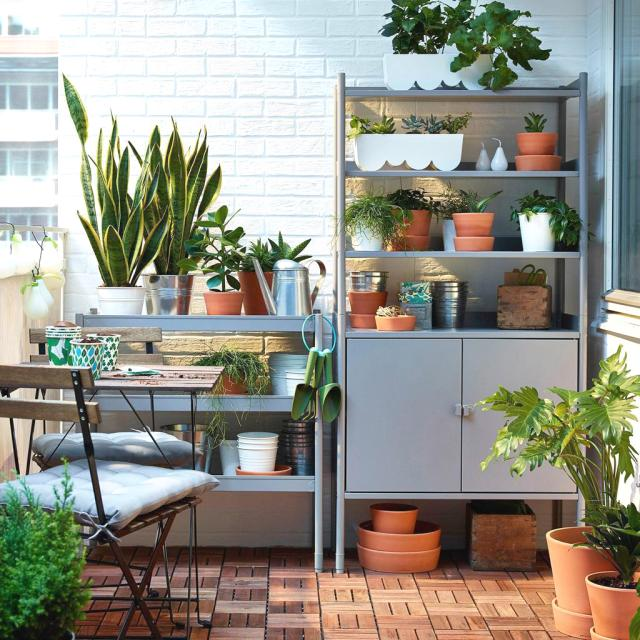obstacle: (332, 68, 607, 528), (0, 361, 223, 640), (72, 292, 326, 472), (533, 401, 640, 640)
